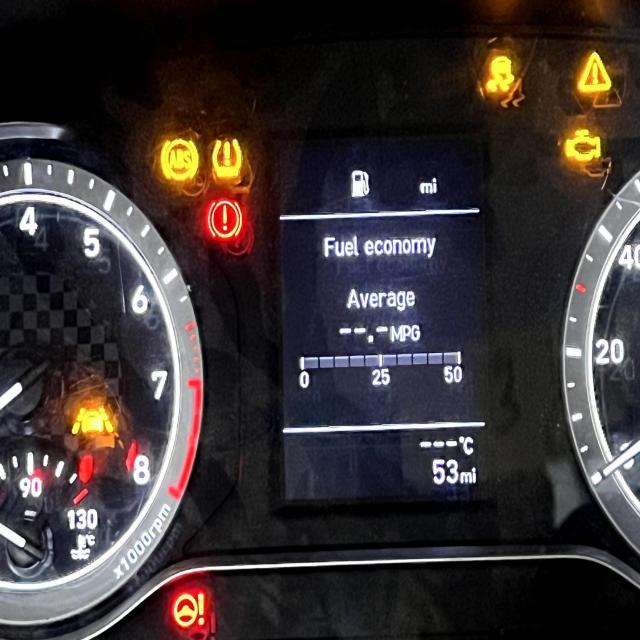ABS: (157, 132, 203, 188)
CriticalWarning: (576, 44, 616, 102)
EngineWarning: (561, 124, 604, 166)
HandBrakeWarning: (204, 198, 248, 245)
PowerSteeringWarning: (171, 584, 211, 632)
TractionControl: (482, 50, 520, 96)
TyrePressureLow: (212, 132, 246, 183)
